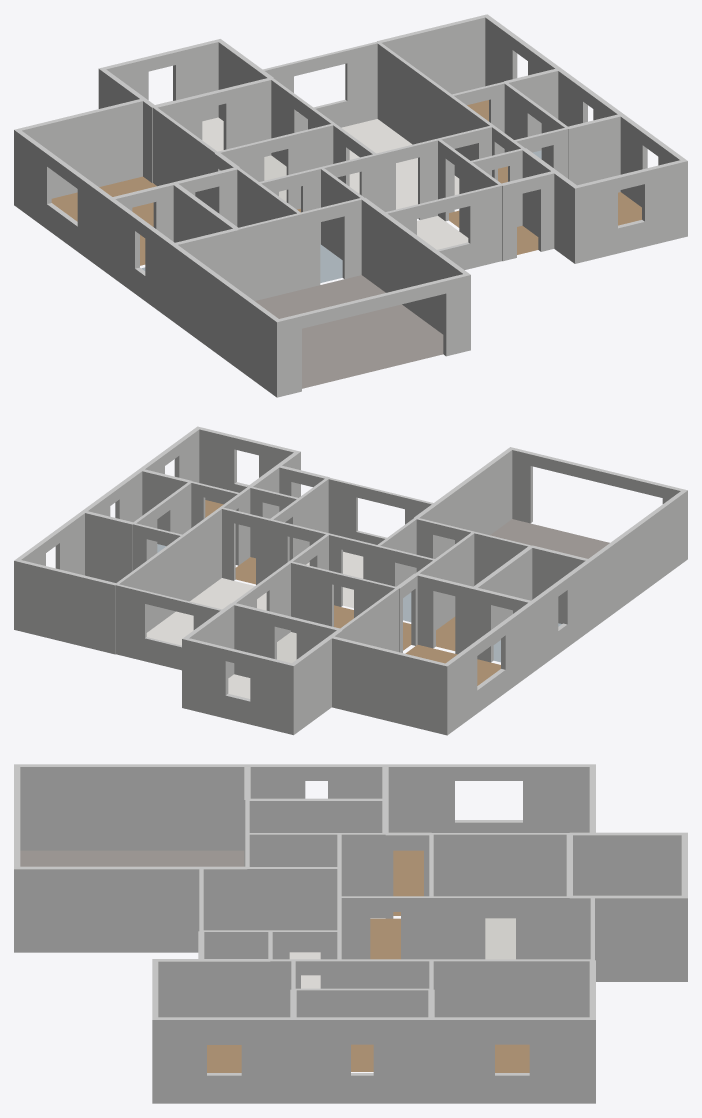
File: sunset-retreat-3d.glb
3 views of the same model, one above another, from view 1: azimuth 30°, elevation 25°; view 2: azimuth 150°, elevation 25°; view 3: azimuth 270°, elevation 25° (orthographic). The views are drawn at different scales.
Visible parts, largest first — view 1: walls, floors; view 2: walls, floors; view 3: walls, floors.
Part boxes in pixels (x1,y1,x2,y2): walls: (14,14,687,397); floors: (51,100,641,388); walls: (14,426,687,735); floors: (146,500,609,698); walls: (14,764,687,1103); floors: (20,850,529,1072).
Bounding box in the file's own units: 16.01 × 2.44 × 17.85.
